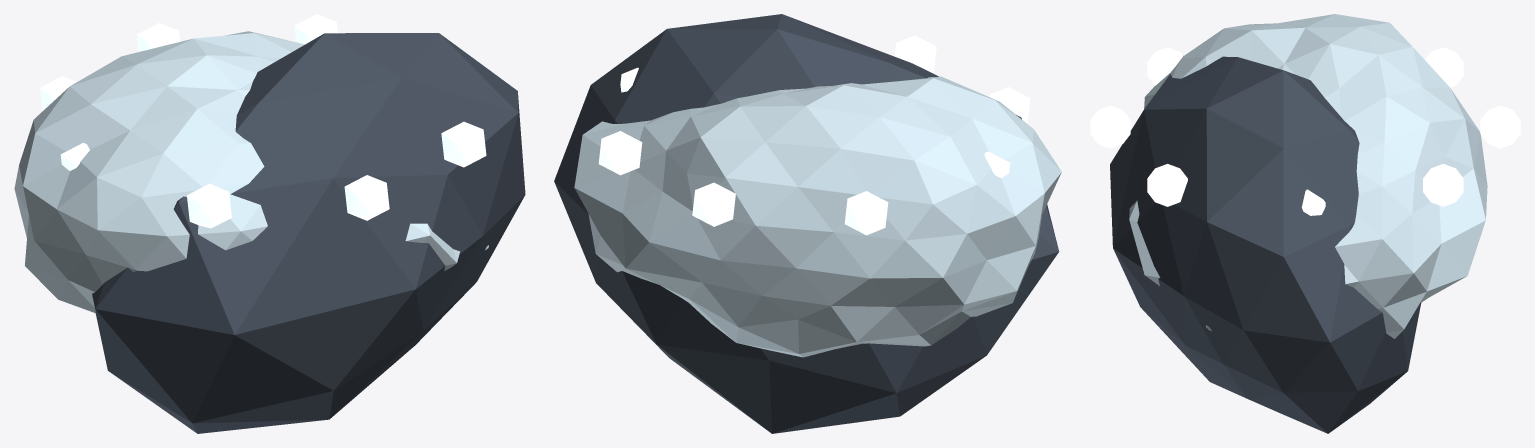
The model's file is comet_nucleus.glb.
3 views of the same model, side by side, from view 1: azimuth 30°, elevation 25°; view 2: azimuth 150°, elevation 25°; view 3: azimuth 270°, elevation 25° (orthographic). The views are drawn at different scales.
Parts seen in each view (by area): view 1: Crust, Body, Jet7, Jet6, Jet5, Jet1, Jet2, Jet3, Jet4; view 2: Body, Crust, Jet1, Jet2, Jet3, Jet6, Jet5; view 3: Crust, Body, Jet2, Jet6, Jet1, Jet7, Jet3, Jet5, Jet0.
Part boxes in pixels (bbox=[...]): Crust: bbox=[92, 33, 525, 433]; Body: bbox=[14, 31, 488, 313]; Jet7: bbox=[441, 121, 486, 167]; Jet6: bbox=[344, 175, 389, 220]; Jet5: bbox=[187, 183, 231, 228]; Jet1: bbox=[294, 14, 337, 44]; Jet2: bbox=[136, 23, 180, 51]; Jet3: bbox=[40, 76, 76, 111]; Jet4: bbox=[60, 143, 89, 170]; Body: bbox=[574, 76, 1061, 357]; Crust: bbox=[554, 14, 1059, 433]; Jet1: bbox=[598, 131, 642, 175]; Jet2: bbox=[692, 182, 735, 226]; Jet3: bbox=[844, 191, 888, 235]; Jet6: bbox=[894, 35, 936, 72]; Jet5: bbox=[989, 87, 1030, 123]; Crust: bbox=[1110, 56, 1421, 433]; Body: bbox=[1129, 14, 1487, 338]; Jet2: bbox=[1480, 105, 1520, 148]; Jet6: bbox=[1090, 105, 1130, 148]; Jet1: bbox=[1423, 164, 1463, 206]; Jet7: bbox=[1147, 164, 1187, 206]; Jet3: bbox=[1425, 47, 1463, 87]; Jet5: bbox=[1147, 47, 1182, 85]; Jet0: bbox=[1301, 189, 1325, 215].
Bounding box in the file's own units: 2.43 × 1.79 × 1.99.
